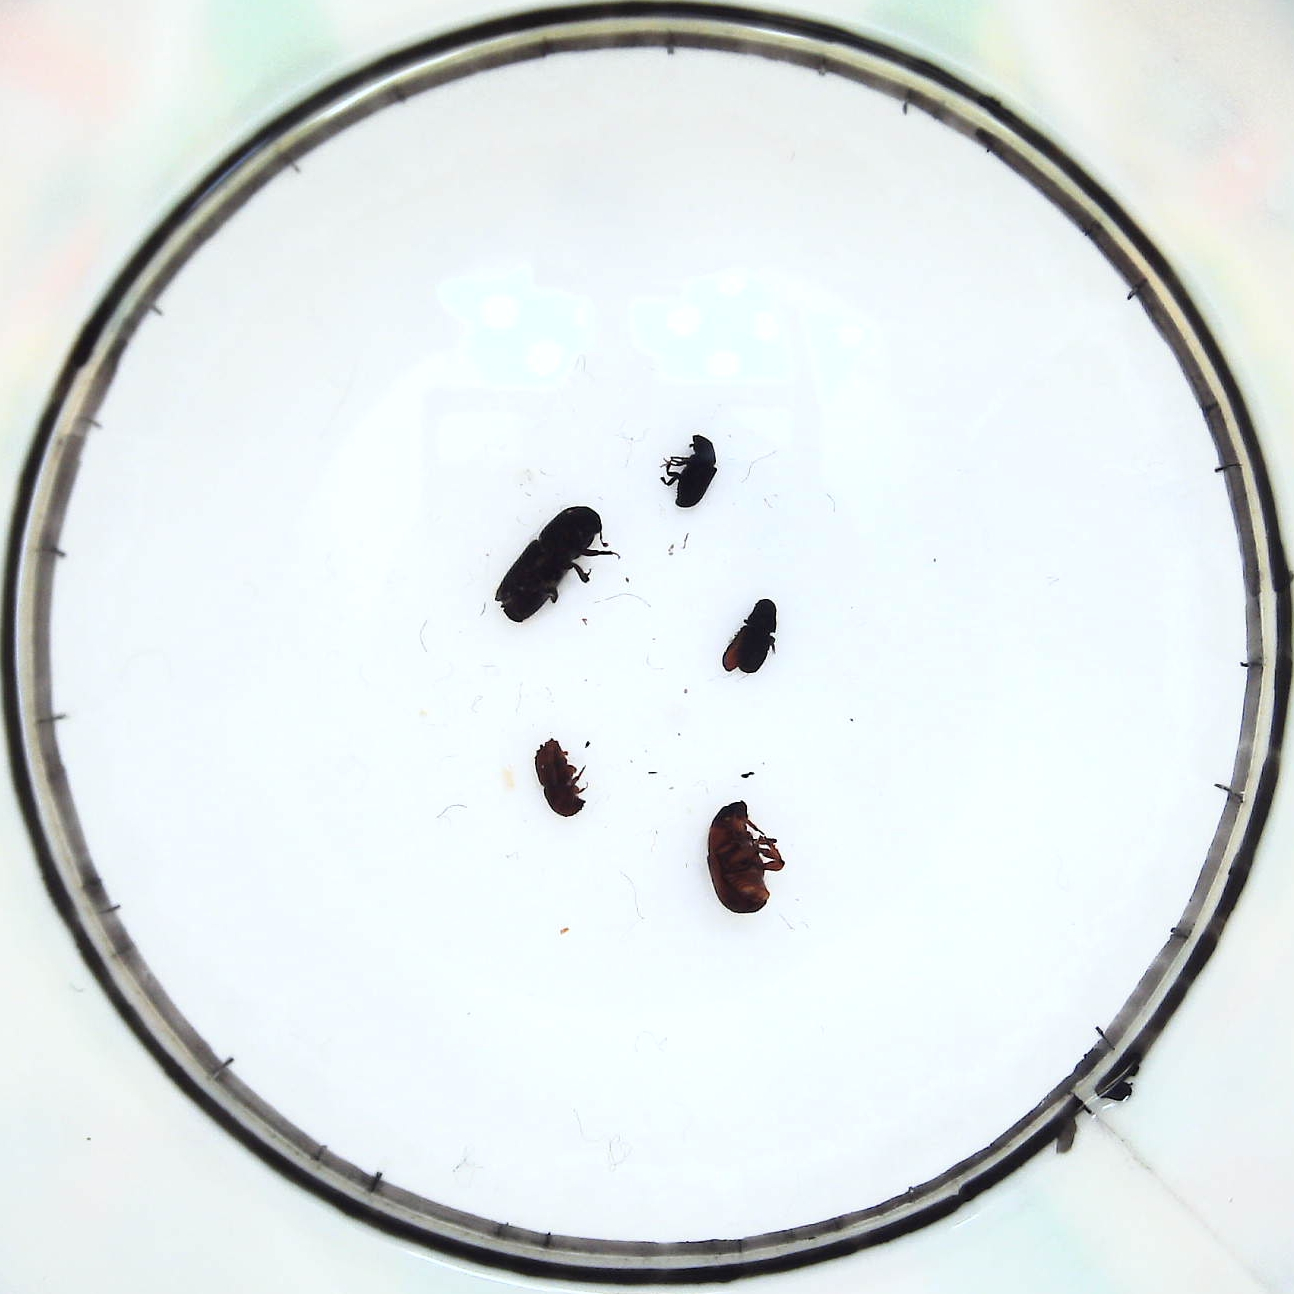Boerner: (493, 499, 606, 624)
Leconte: (704, 799, 779, 914)
Linnaeus: (530, 736, 582, 818)
armandi: (724, 598, 775, 678)
coleoptera: (670, 434, 719, 508)
